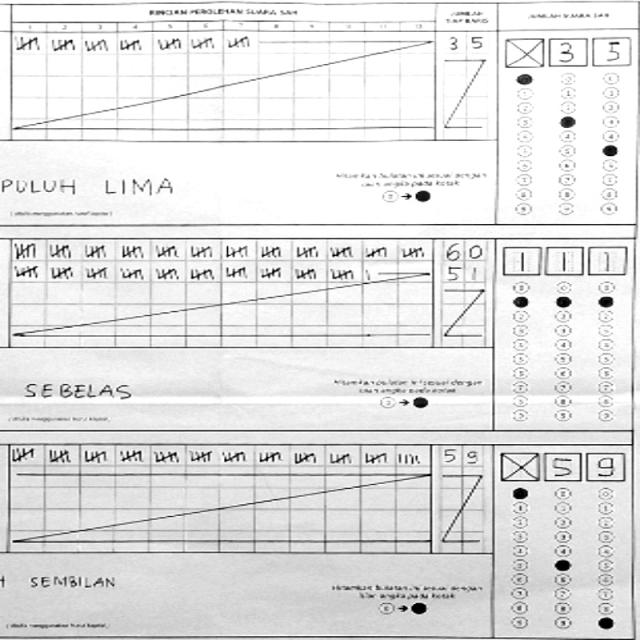Suara: (502, 242, 630, 279), (496, 449, 627, 482), (497, 35, 631, 67)
